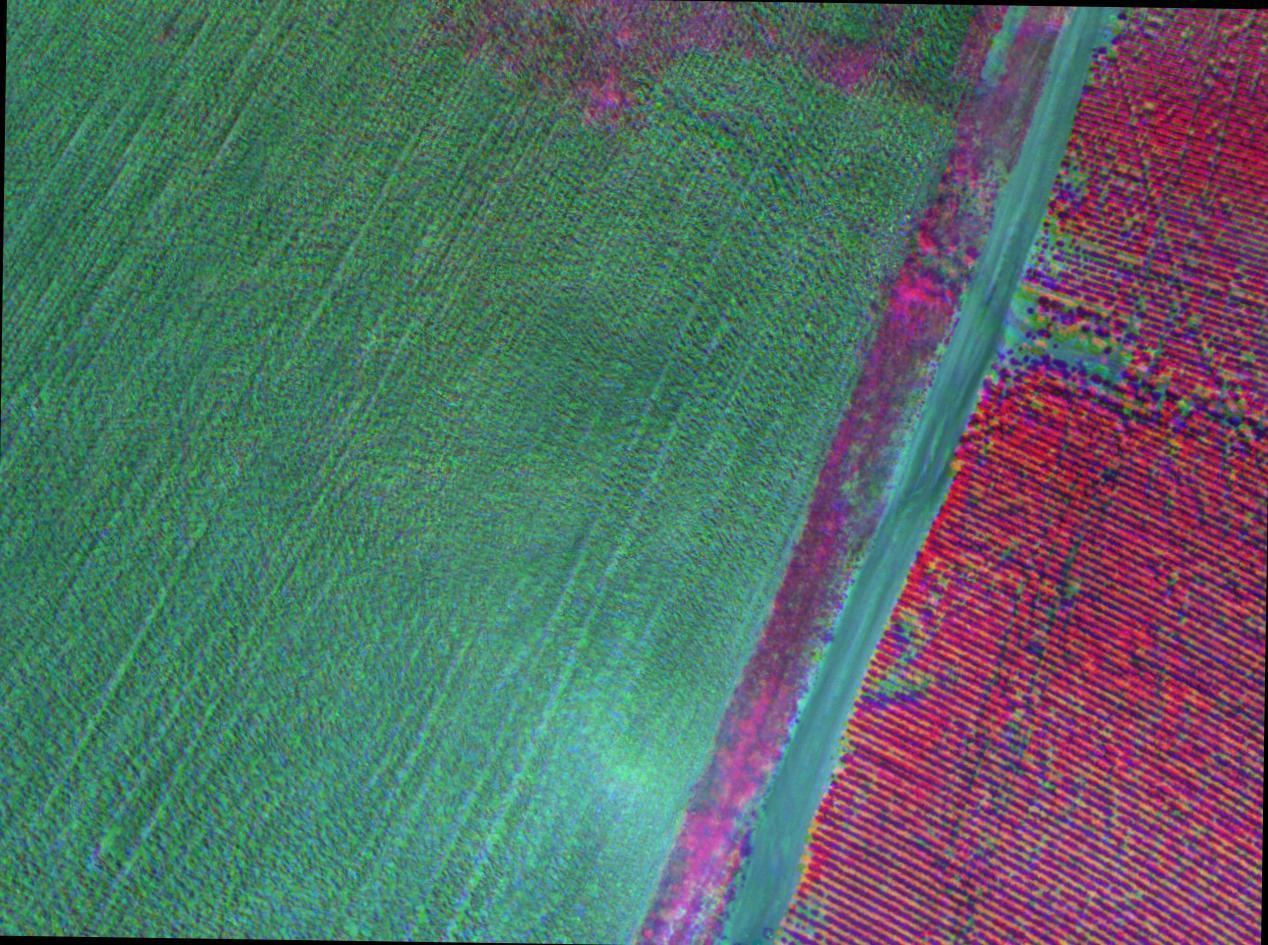dc: (1084, 343, 1092, 354), (1060, 343, 1068, 353), (1023, 299, 1030, 307), (1074, 176, 1079, 182)
